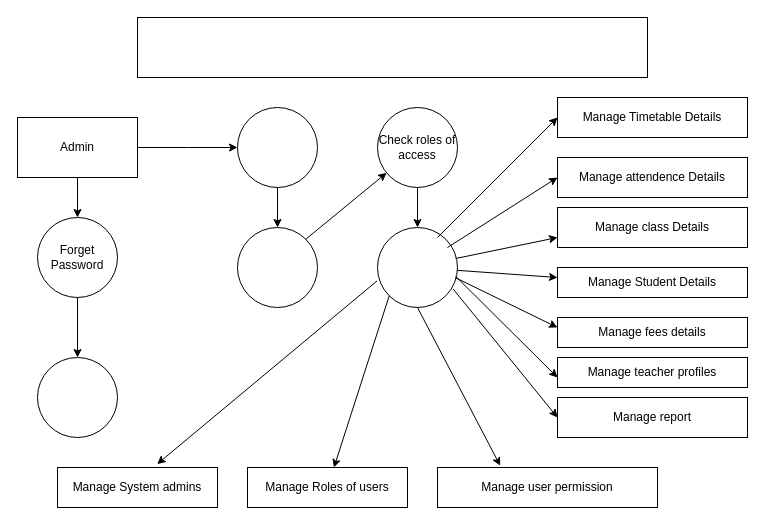
Some shapes in this 765 by 525 pixel diagram are drawn without their labels. The centre of each missing label's shape, as x and y in pixels:
Check Credentials: pixel 277 267
Login to System: pixel 277 147
Manage Modules: pixel 417 267
Send email to user: pixel 77 397
Student Information System: pixel 392 47
